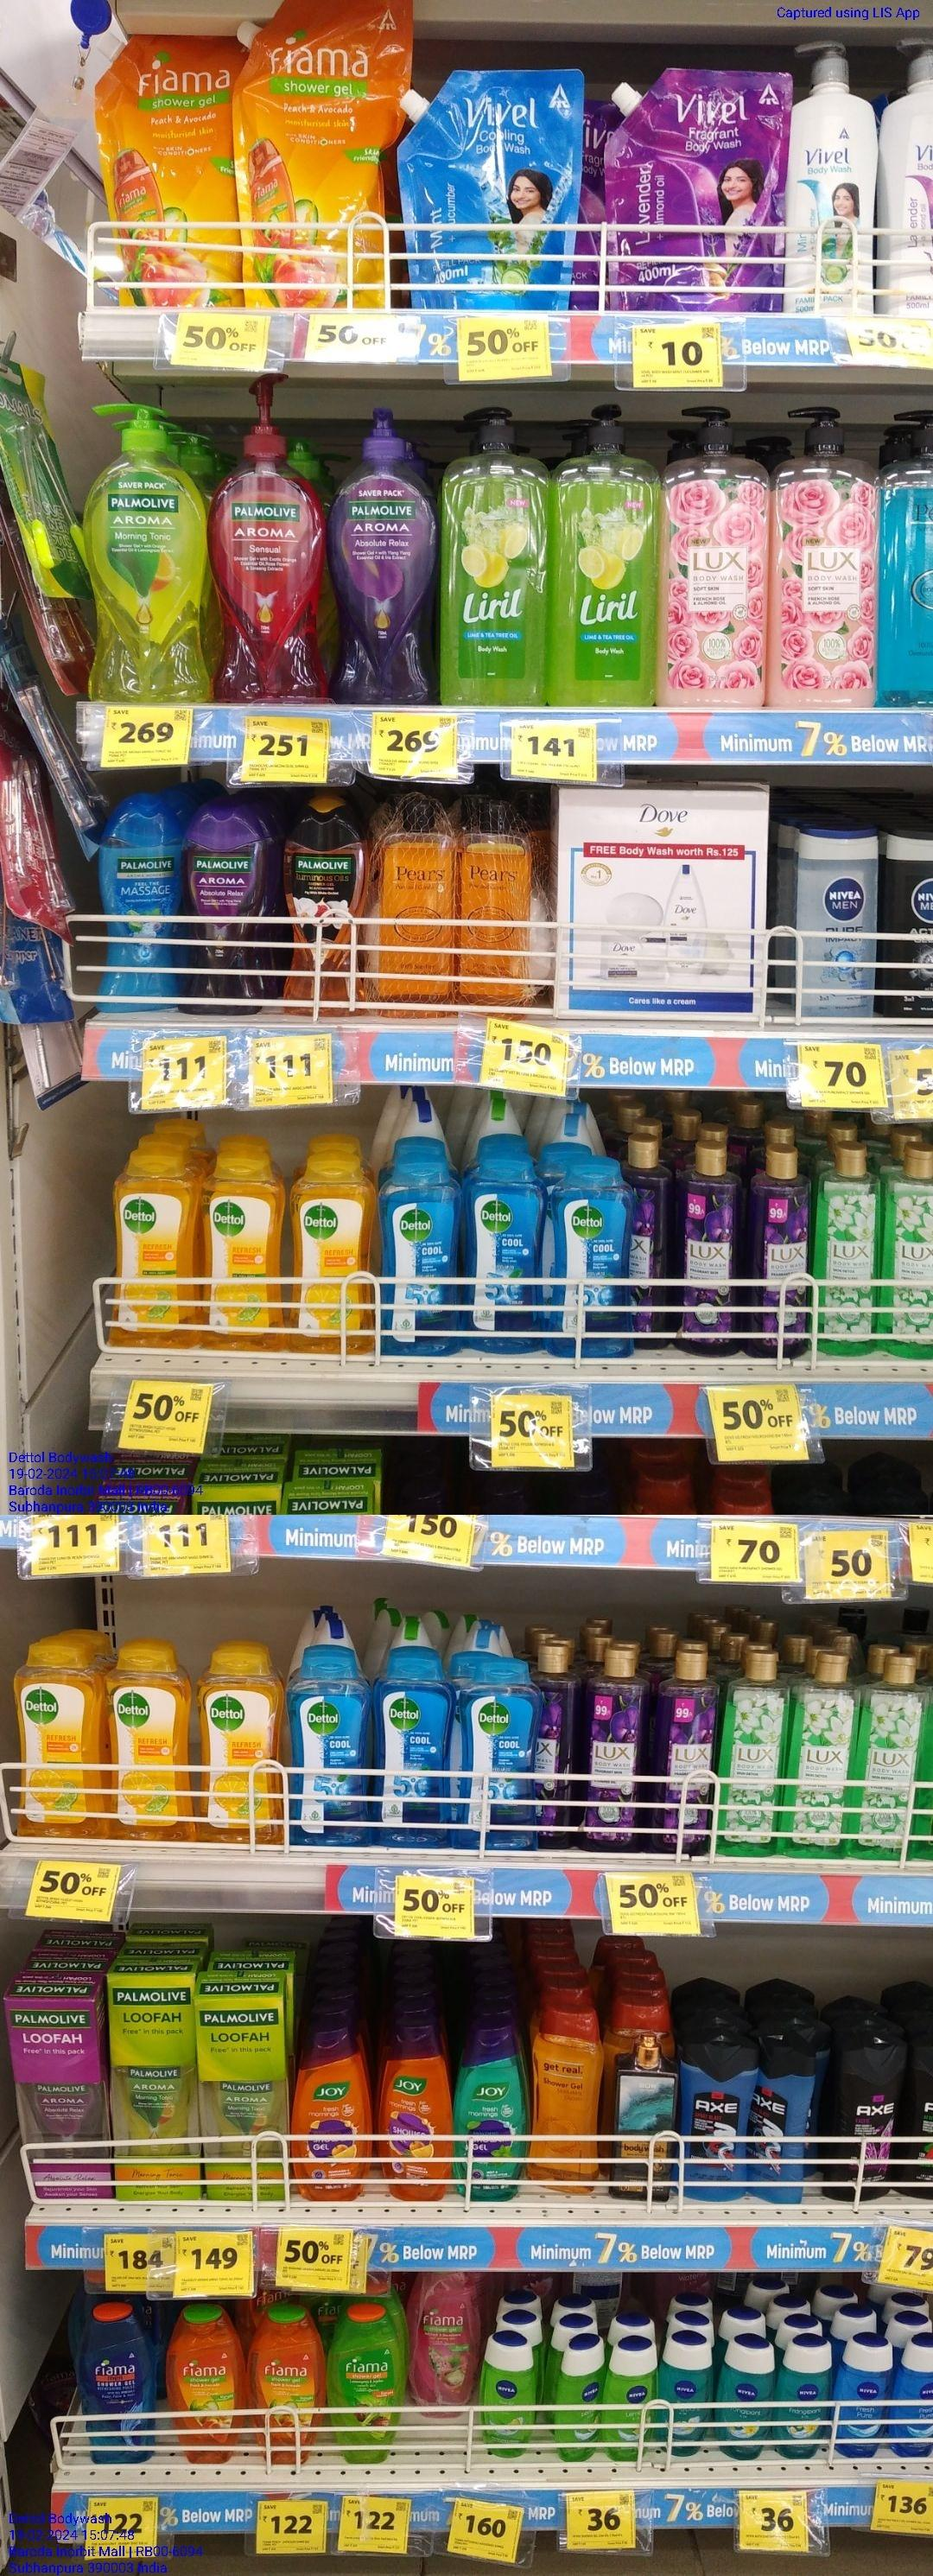Dettol_Bodywash_Cool: (286, 1648, 371, 1845), (383, 1158, 465, 1355), (375, 1646, 453, 1845), (555, 1158, 629, 1355), (462, 1664, 539, 1848), (470, 1161, 540, 1355)
Dettol_Bodywash_Refresh: (115, 1145, 200, 1347), (103, 1646, 192, 1840), (287, 1160, 373, 1355), (15, 1646, 102, 1837), (197, 1649, 279, 1842), (200, 1152, 279, 1350)
Fiama_Shower_Gel_Lemongrass_and_Jojoba_250ML: (329, 2305, 402, 2468)
Fiama_Shower_Gel_Patchouli_and_Macadamia_250ML: (406, 2272, 478, 2420)
Fiama_Shower_Gel_Peach_and_Avocado_250ML: (174, 2311, 243, 2463), (260, 2311, 322, 2466)
Joy_Shower_Gel_Mandarin_and_Lemongrass_250ML: (296, 2026, 370, 2201), (381, 2027, 452, 2201)
Joy_Shower_Gel_Mint_and_Eucalyptus_250ML: (453, 2024, 526, 2201)
Lux_Black_Orchid_Scent_and_Juniper_Oil_Body_Wash_245ML: (655, 1641, 723, 1856), (746, 1142, 808, 1352), (682, 1132, 741, 1354), (590, 1648, 646, 1847)
Lux_Body_Wash_Skin_Detox_Freesia_Scent_and_Alove_Vera_245ML: (785, 1651, 853, 1858), (818, 1145, 882, 1349), (726, 1653, 784, 1856), (857, 1663, 917, 1860), (880, 1143, 933, 1359)
Nivea_Shower_Gel_Frangipani_and_Oil_250ML: (718, 2334, 777, 2461), (779, 2338, 836, 2456), (660, 2333, 711, 2456)
Nivea_Shower_Gel_Lemon_and_Oil_250ML: (485, 2330, 537, 2461), (557, 2338, 608, 2464), (608, 2339, 657, 2458)
Palmolive_Aroma_Moments_Feel_The_Massage_Shower_Gel_250ML: (105, 803, 181, 1014)
Palmolive_Aroma_Relax_250ML: (186, 812, 263, 1017)
Palmolive_Luminous_Oils_With_White_Orchid_Shower_Gel_250ML: (278, 798, 361, 1019)
